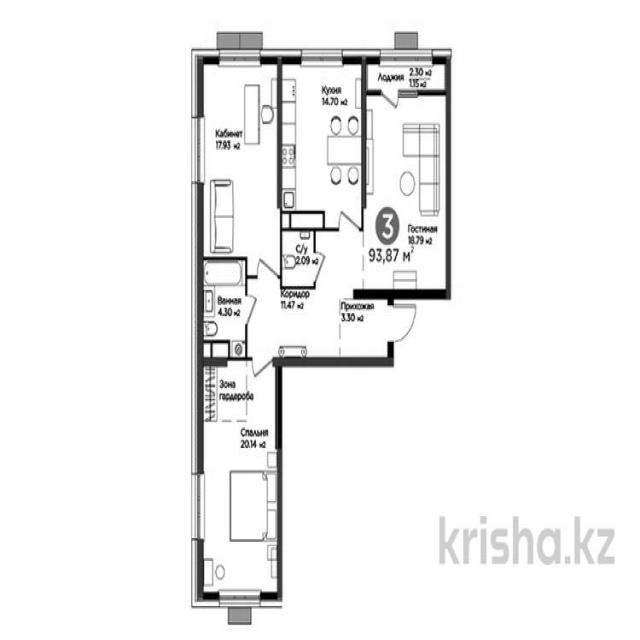balcony: (365, 54, 448, 94)
bathroom: (197, 260, 248, 361), (282, 232, 318, 290)
hallway: (248, 290, 339, 360), (340, 297, 390, 362)
kitchen: (281, 53, 362, 216)
living_room: (197, 363, 282, 600), (365, 94, 448, 297), (199, 58, 279, 260)
